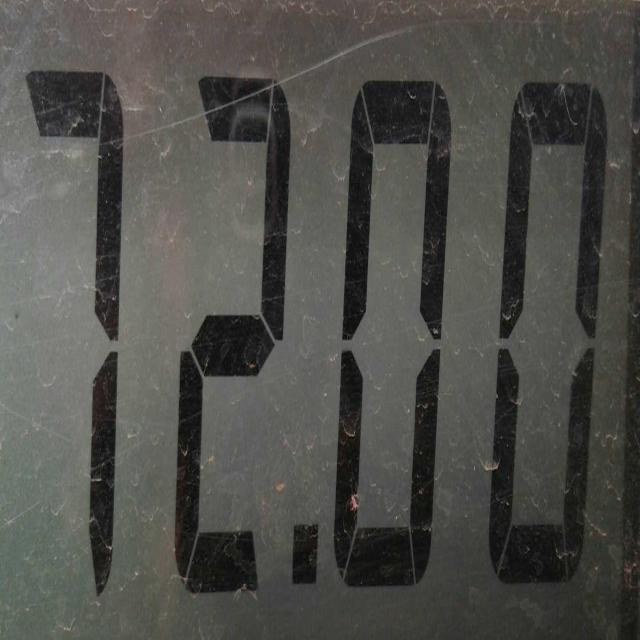.: (286, 509, 325, 610)
0: (472, 48, 617, 613), (334, 50, 456, 611)
2: (158, 50, 296, 630)
7: (18, 52, 142, 608)
